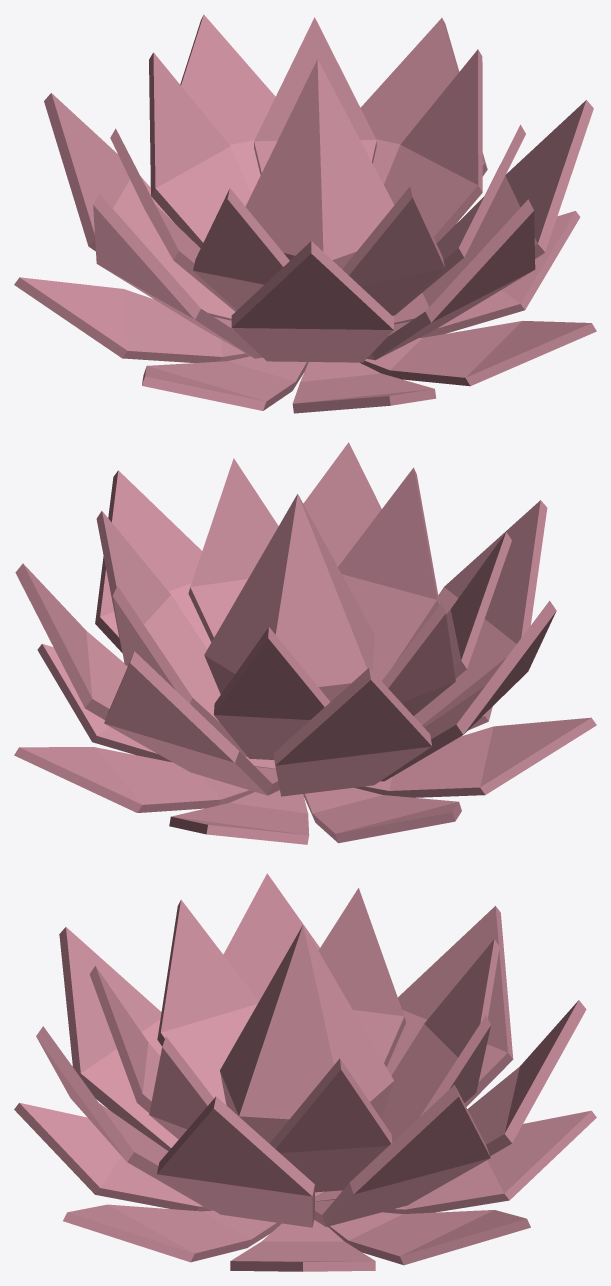
Rendered from lily.fbx.
3 renders of one model, top to bottom at view 1: azimuth 30°, elevation 25°; view 2: azimuth 150°, elevation 25°; view 3: azimuth 270°, elevation 25°, orthographic.
Parts seen in each view (by area): view 1: Icosphere; view 2: Icosphere; view 3: Icosphere.
Boxes of the visible parts, x1,y1,x2,y2 form: Icosphere: (14, 14, 596, 413); Icosphere: (14, 442, 596, 844); Icosphere: (14, 873, 596, 1271).
Bounding box in the file's own units: 111 × 60.81 × 112.
